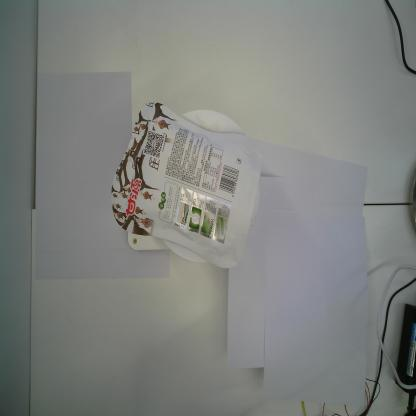Dried Fruit: (109, 98, 264, 268)
